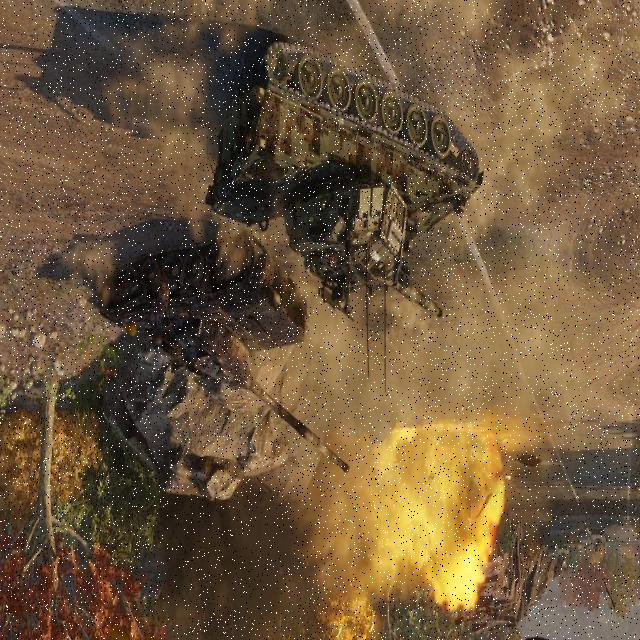MIL_MBT: (217, 38, 475, 286), (113, 284, 260, 403)
